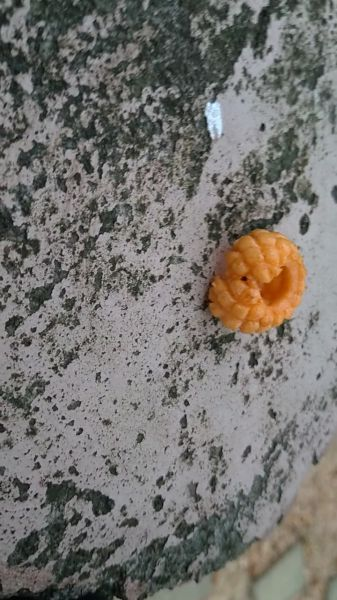eggs: (199, 220, 315, 339)
